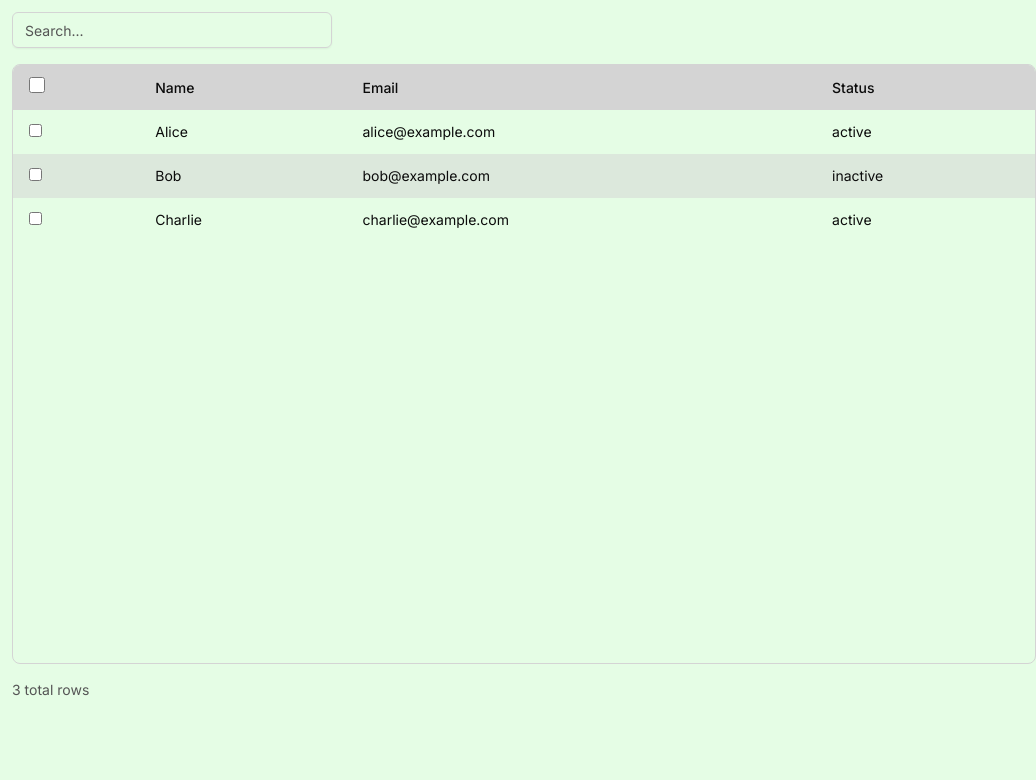
Test case: VirtualDataTable › row selection › should show selected count when rows selected via header
The image size is (1036, 780).
Note: Click header checkbox to select all
Click the checkbox next to "Name". click: (37, 85)
box: [29, 77, 45, 93]
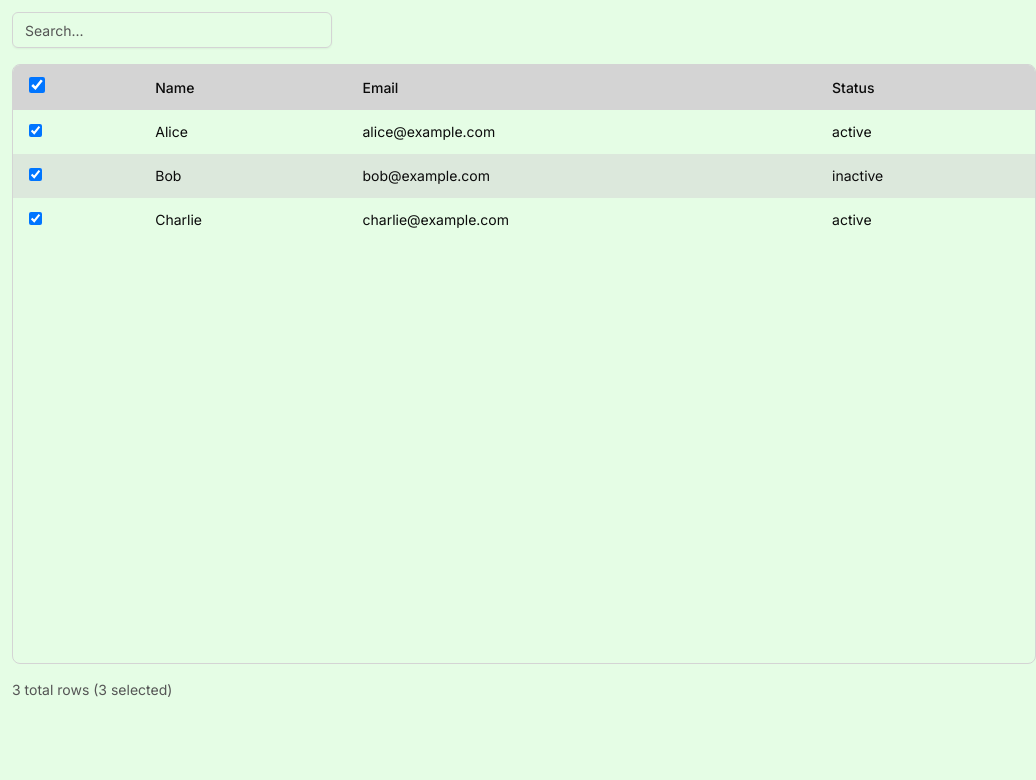
Now the text "(3 selected)" is shown, box [89, 681, 172, 698]
